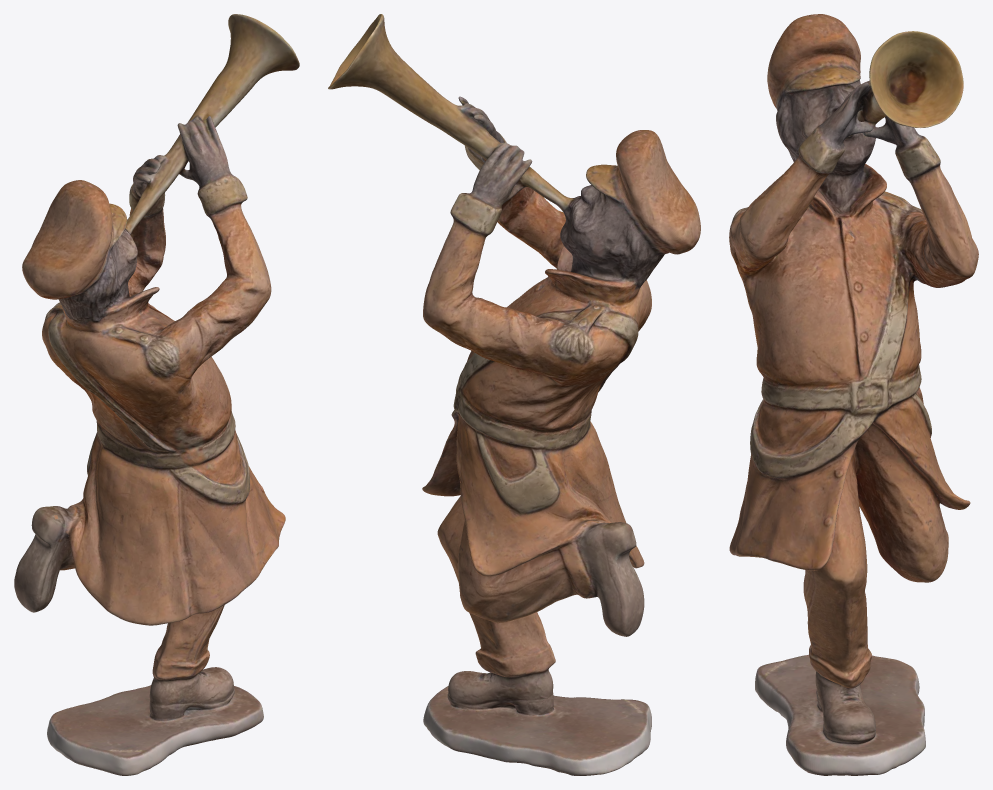
Rendered from khanna-patinder-ji-haran-walla.glb.
3 renders of one model, left to right at view 1: azimuth 30°, elevation 25°; view 2: azimuth 150°, elevation 25°; view 3: azimuth 270°, elevation 25°, orthographic. The views are drawn at different scales.
Parts seen in each view (by area): view 1: 27 - Krishan Khanna - 05; view 2: 27 - Krishan Khanna - 05; view 3: 27 - Krishan Khanna - 05.
Boxes of the visible parts, x1,y1,x2,y2 form: 27 - Krishan Khanna - 05: (14, 14, 299, 775); 27 - Krishan Khanna - 05: (328, 14, 700, 775); 27 - Krishan Khanna - 05: (729, 14, 978, 775).
Size of the model in its own units: 27.68 by 58.63 by 17.45.
Materials: 1 (1 with a texture image).
